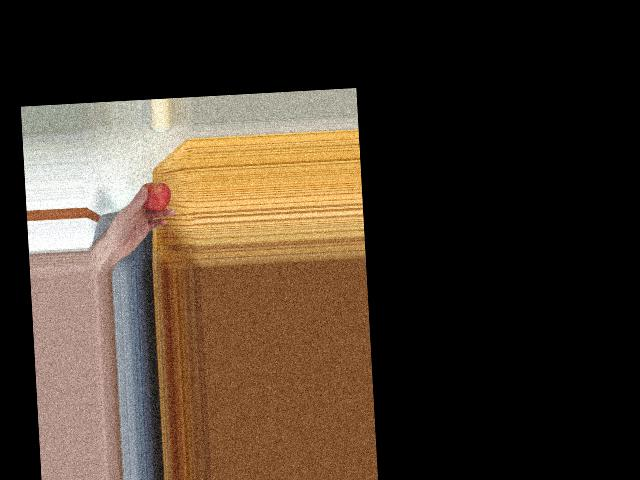apple: (137, 181, 171, 213)
